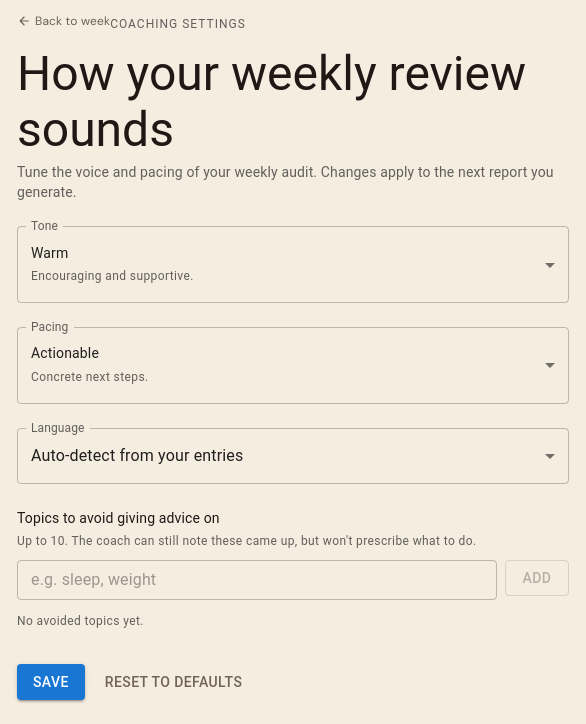
Test: SettingsPage › adds a topic when the user types and presses Enter
The image size is (586, 724).
Type "sleep" into the field with placeholder "e.g. sleep, weight" at (257, 580), box 17,560 -> 497,600
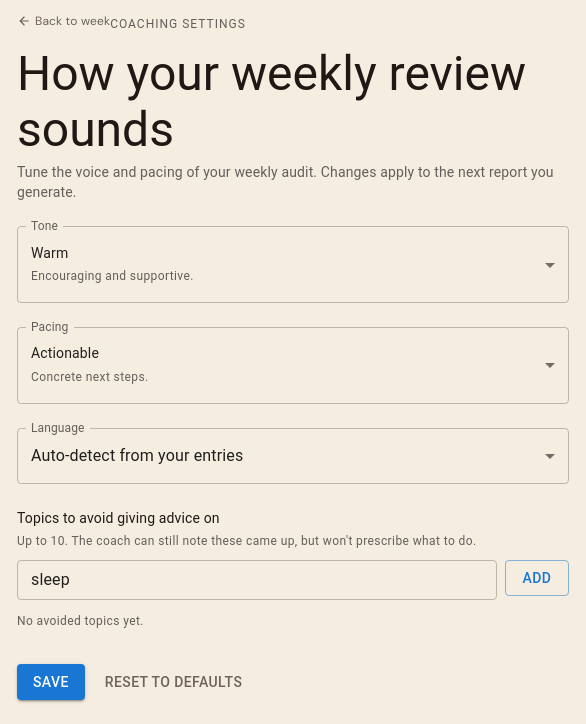
Press Enter in the field with placeholder "e.g. sleep, weight", box 17,560 -> 497,600
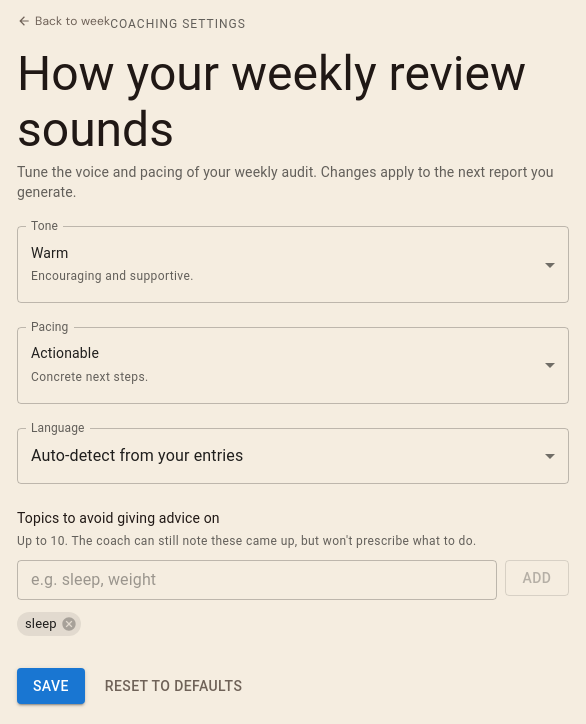
Expected: the text "sleep" is shown, 25,616 -> 57,631
Expected: the field with placeholder "e.g. sleep, weight" is empty, 17,560 -> 497,600
